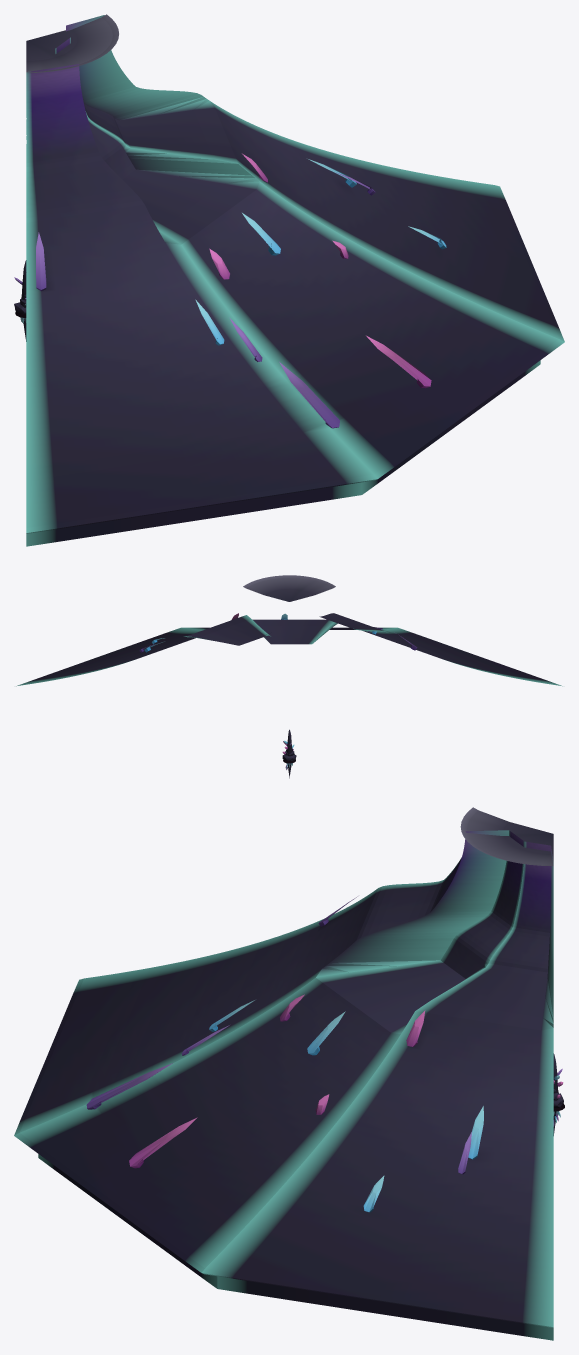
Rendered from caverns-s1-YwWvssNb.glb.
3 views of the same model, one above another, from view 1: azimuth 30°, elevation 25°; view 2: azimuth 150°, elevation 25°; view 3: azimuth 270°, elevation 25° (orthographic). The views are drawn at different scales.
Visible parts, largest first — view 1: sc_landmark_2; view 2: sc_landmark_2; view 3: sc_landmark_2.
Part boxes in pixels (x1,y1,x2,y2): sc_landmark_2: (26,14,564,546); sc_landmark_2: (16,575,562,686); sc_landmark_2: (14,807,553,1340).
Bounding box in the file's own units: 646 × 270 × 433.
